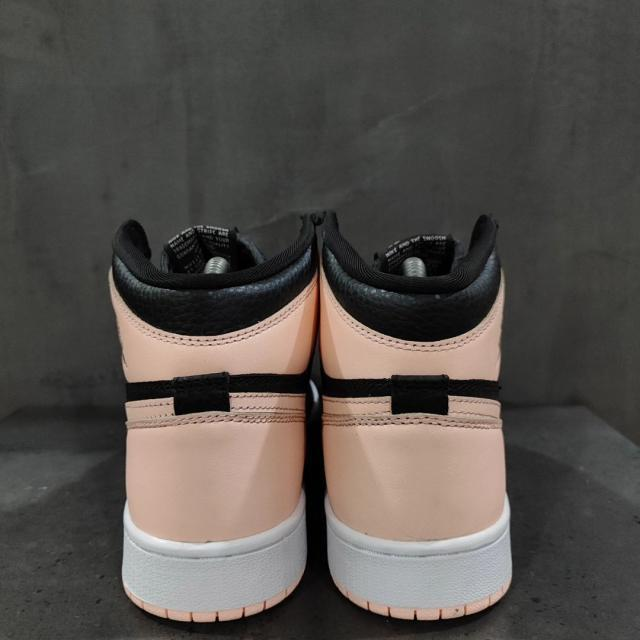nike fake jordan 1: (104, 218, 316, 633), (315, 212, 517, 627)
